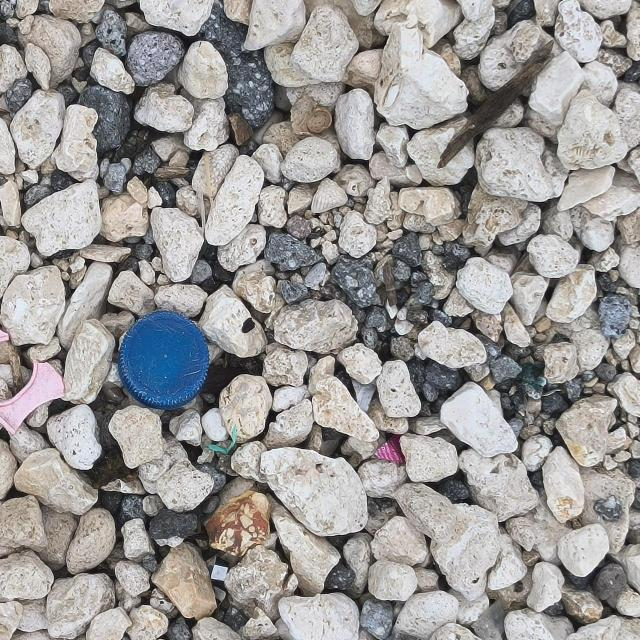plastic_waste: (121, 311, 212, 411)
